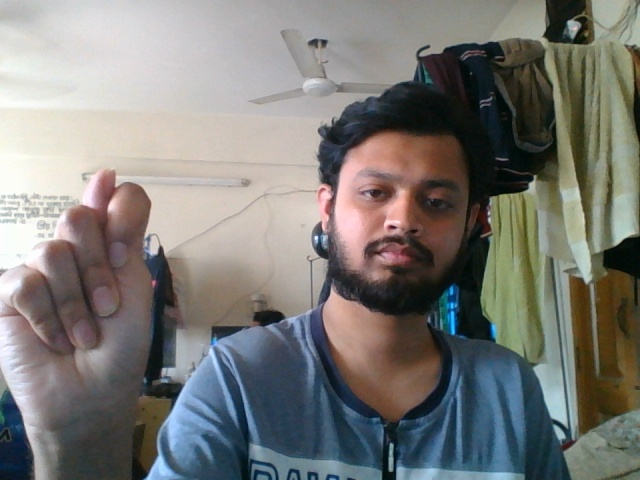ta: (1, 162, 166, 450)
